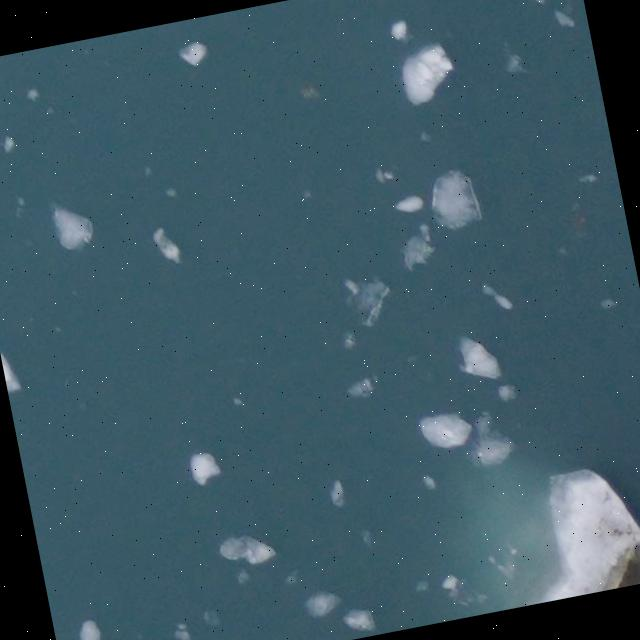seal: (606, 544, 640, 590)
